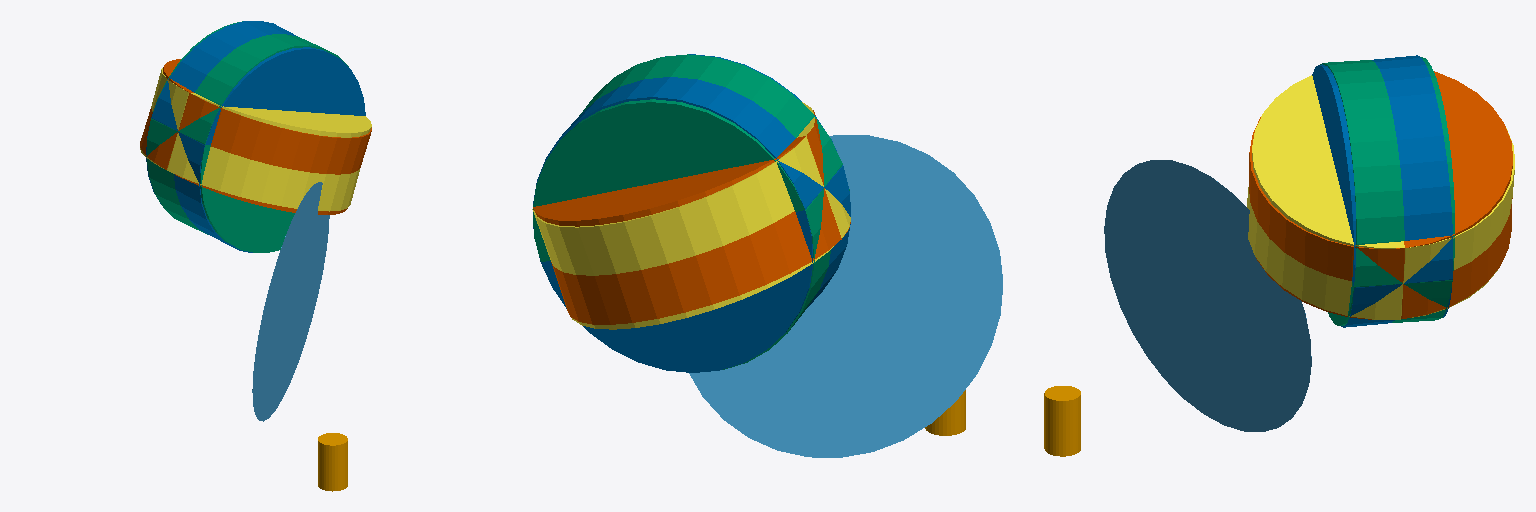
robot.urdf — pepe:
<robot name="pepe">
	<link name="0">
		<visual>
			<geometry>
				<cylinder length="0.35940935990721423" radius="0.10762790799951505"/>
			</geometry>
		</visual>
		<collision>
			<geometry>
				<cylinder length="0.35940935990721423" radius="0.10762790799951505"/>
			</geometry>
		</collision>
		<inertial>
			<mass value="0.013079437091548709"/>
			<inertia ixx="0.03" iyy="0.03" izz="0.03" ixy="0" ixz="0" iyx="0"/>
		</inertial>
	</link>
	<link name="11">
		<visual>
			<geometry>
				<cylinder length="0.00014309724393646306" radius="0.878015169482812"/>
			</geometry>
		</visual>
		<collision>
			<geometry>
				<cylinder length="0.00014309724393646306" radius="0.878015169482812"/>
			</geometry>
		</collision>
		<inertial>
			<mass value="0.000346565382932485"/>
			<inertia ixx="0.03" iyy="0.03" izz="0.03" ixy="0" ixz="0" iyx="0"/>
		</inertial>
	</link>
	<link name="22">
		<visual>
			<geometry>
				<cylinder length="0.5885490024600376" radius="0.774072067857943"/>
			</geometry>
		</visual>
		<collision>
			<geometry>
				<cylinder length="0.5885490024600376" radius="0.774072067857943"/>
			</geometry>
		</collision>
		<inertial>
			<mass value="1.1078865586730096"/>
			<inertia ixx="0.03" iyy="0.03" izz="0.03" ixy="0" ixz="0" iyx="0"/>
		</inertial>
	</link>
	<link name="23">
		<visual>
			<geometry>
				<cylinder length="0.5885490024600376" radius="0.774072067857943"/>
			</geometry>
		</visual>
		<collision>
			<geometry>
				<cylinder length="0.5885490024600376" radius="0.774072067857943"/>
			</geometry>
		</collision>
		<inertial>
			<mass value="1.1078865586730096"/>
			<inertia ixx="0.03" iyy="0.03" izz="0.03" ixy="0" ixz="0" iyx="0"/>
		</inertial>
	</link>
	<link name="24">
		<visual>
			<geometry>
				<cylinder length="0.5885490024600376" radius="0.774072067857943"/>
			</geometry>
		</visual>
		<collision>
			<geometry>
				<cylinder length="0.5885490024600376" radius="0.774072067857943"/>
			</geometry>
		</collision>
		<inertial>
			<mass value="1.1078865586730096"/>
			<inertia ixx="0.03" iyy="0.03" izz="0.03" ixy="0" ixz="0" iyx="0"/>
		</inertial>
	</link>
	<link name="25">
		<visual>
			<geometry>
				<cylinder length="0.5885490024600376" radius="0.774072067857943"/>
			</geometry>
		</visual>
		<collision>
			<geometry>
				<cylinder length="0.5885490024600376" radius="0.774072067857943"/>
			</geometry>
		</collision>
		<inertial>
			<mass value="1.1078865586730096"/>
			<inertia ixx="0.03" iyy="0.03" izz="0.03" ixy="0" ixz="0" iyx="0"/>
		</inertial>
	</link>
	<link name="36">
		<visual>
			<geometry>
				<cylinder length="0.6698241132036055" radius="0.20281904790217475"/>
			</geometry>
		</visual>
		<collision>
			<geometry>
				<cylinder length="0.6698241132036055" radius="0.20281904790217475"/>
			</geometry>
		</collision>
		<inertial>
			<mass value="0.08656216894796107"/>
			<inertia ixx="0.03" iyy="0.03" izz="0.03" ixy="0" ixz="0" iyx="0"/>
		</inertial>
	</link>
	<link name="37">
		<visual>
			<geometry>
				<cylinder length="0.6698241132036055" radius="0.20281904790217475"/>
			</geometry>
		</visual>
		<collision>
			<geometry>
				<cylinder length="0.6698241132036055" radius="0.20281904790217475"/>
			</geometry>
		</collision>
		<inertial>
			<mass value="0.08656216894796107"/>
			<inertia ixx="0.03" iyy="0.03" izz="0.03" ixy="0" ixz="0" iyx="0"/>
		</inertial>
	</link>
	<link name="38">
		<visual>
			<geometry>
				<cylinder length="0.6698241132036055" radius="0.20281904790217475"/>
			</geometry>
		</visual>
		<collision>
			<geometry>
				<cylinder length="0.6698241132036055" radius="0.20281904790217475"/>
			</geometry>
		</collision>
		<inertial>
			<mass value="0.08656216894796107"/>
			<inertia ixx="0.03" iyy="0.03" izz="0.03" ixy="0" ixz="0" iyx="0"/>
		</inertial>
	</link>
	<link name="39">
		<visual>
			<geometry>
				<cylinder length="0.6698241132036055" radius="0.20281904790217475"/>
			</geometry>
		</visual>
		<collision>
			<geometry>
				<cylinder length="0.6698241132036055" radius="0.20281904790217475"/>
			</geometry>
		</collision>
		<inertial>
			<mass value="0.08656216894796107"/>
			<inertia ixx="0.03" iyy="0.03" izz="0.03" ixy="0" ixz="0" iyx="0"/>
		</inertial>
	</link>
	<joint name="11_to_0" type="revolute">
		<parent link="0"/>
		<child link="11"/>
		<axis xyz="1 0 0"/>
		<limit effort="1" upper="-3.1415" lower="3.1415" velocity="1"/>
		<origin rpy="0.14649725603420974 4.846653697982699 5.321823417325937" xyz="0.14857603399565733 0.850922854525532 0.8784038689011624"/>
	</joint>
	<joint name="22_to_11" type="revolute">
		<parent link="11"/>
		<child link="22"/>
		<axis xyz="0 0 1"/>
		<limit effort="1" upper="-3.1415" lower="3.1415" velocity="1"/>
		<origin rpy="3.187479884946322 0.5826987100304208 1.9187399681391597" xyz="0.7174258218115571 0.9241630040425354 0.6345313651243545"/>
	</joint>
	<joint name="23_to_11" type="revolute">
		<parent link="11"/>
		<child link="23"/>
		<axis xyz="0 0 1"/>
		<limit effort="1" upper="-3.1415" lower="3.1415" velocity="1"/>
		<origin rpy="4.781219827419483 0.5826987100304208 1.9187399681391597" xyz="0.7174258218115571 0.9241630040425354 0.6345313651243545"/>
	</joint>
	<joint name="24_to_11" type="revolute">
		<parent link="11"/>
		<child link="24"/>
		<axis xyz="0 0 1"/>
		<limit effort="1" upper="-3.1415" lower="3.1415" velocity="1"/>
		<origin rpy="6.374959769892644 0.5826987100304208 1.9187399681391597" xyz="0.7174258218115571 0.9241630040425354 0.6345313651243545"/>
	</joint>
	<joint name="25_to_11" type="revolute">
		<parent link="11"/>
		<child link="25"/>
		<axis xyz="0 0 1"/>
		<limit effort="1" upper="-3.1415" lower="3.1415" velocity="1"/>
		<origin rpy="7.968699712365805 0.5826987100304208 1.9187399681391597" xyz="0.7174258218115571 0.9241630040425354 0.6345313651243545"/>
	</joint>
	<joint name="36_to_11" type="revolute">
		<parent link="11"/>
		<child link="36"/>
		<axis xyz="0 0 1"/>
		<limit effort="1" upper="-3.1415" lower="3.1415" velocity="1"/>
		<origin rpy="2.2336799387969823 2.753265867417977 0.13256535444230305" xyz="0.6462597085189629 0.8247703460954684 0.3225897180783439"/>
	</joint>
	<joint name="37_to_11" type="revolute">
		<parent link="11"/>
		<child link="37"/>
		<axis xyz="0 0 1"/>
		<limit effort="1" upper="-3.1415" lower="3.1415" velocity="1"/>
		<origin rpy="2.605959928596479 2.753265867417977 0.13256535444230305" xyz="0.6462597085189629 0.8247703460954684 0.3225897180783439"/>
	</joint>
	<joint name="38_to_11" type="revolute">
		<parent link="11"/>
		<child link="38"/>
		<axis xyz="0 0 1"/>
		<limit effort="1" upper="-3.1415" lower="3.1415" velocity="1"/>
		<origin rpy="2.9782399183959765 2.753265867417977 0.13256535444230305" xyz="0.6462597085189629 0.8247703460954684 0.3225897180783439"/>
	</joint>
	<joint name="39_to_11" type="revolute">
		<parent link="11"/>
		<child link="39"/>
		<axis xyz="0 0 1"/>
		<limit effort="1" upper="-3.1415" lower="3.1415" velocity="1"/>
		<origin rpy="3.3505199081954737 2.753265867417977 0.13256535444230305" xyz="0.6462597085189629 0.8247703460954684 0.3225897180783439"/>
	</joint>
</robot>

--- Facts derived from the render (not from the file) ---
The picture shows the robot from 3 angles, left to right: view 1: azimuth 30°, elevation 25°; view 2: azimuth 150°, elevation 25°; view 3: azimuth 270°, elevation 25°; orthographic projection.
Model pepe with 10 links and 9 joints (9 revolute), rooted at 0, posed all joints at 0.
Visible links, largest first — view 1: 24, 23, 11, 22, 25, 0; view 2: 11, 22, 25, 24, 23, 0; view 3: 11, 23, 25, 24, 22, 0.
Boxes of the visible links, x1,y1,x2,y2 form: 24: (146,21,365,252); 23: (140,68,371,211); 11: (252,182,329,421); 22: (147,21,348,252); 25: (140,59,371,214); 0: (318,433,347,491); 11: (689,135,1002,457); 22: (533,54,849,369); 25: (533,110,850,324); 24: (533,54,850,372); 23: (532,102,850,329); 0: (925,390,965,435); 11: (1104,160,1311,431); 23: (1247,75,1514,319); 25: (1249,71,1512,319); 24: (1312,55,1452,327); 22: (1320,57,1454,325); 0: (1044,386,1080,456).
Size in the robot's own frame: 1.76 by 2.76 by 2.65 metres.
Geometry: primitives only (box / cylinder / sphere), no mesh files.
